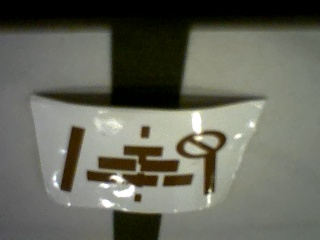Clearing_Zone: (59, 124, 228, 202)
